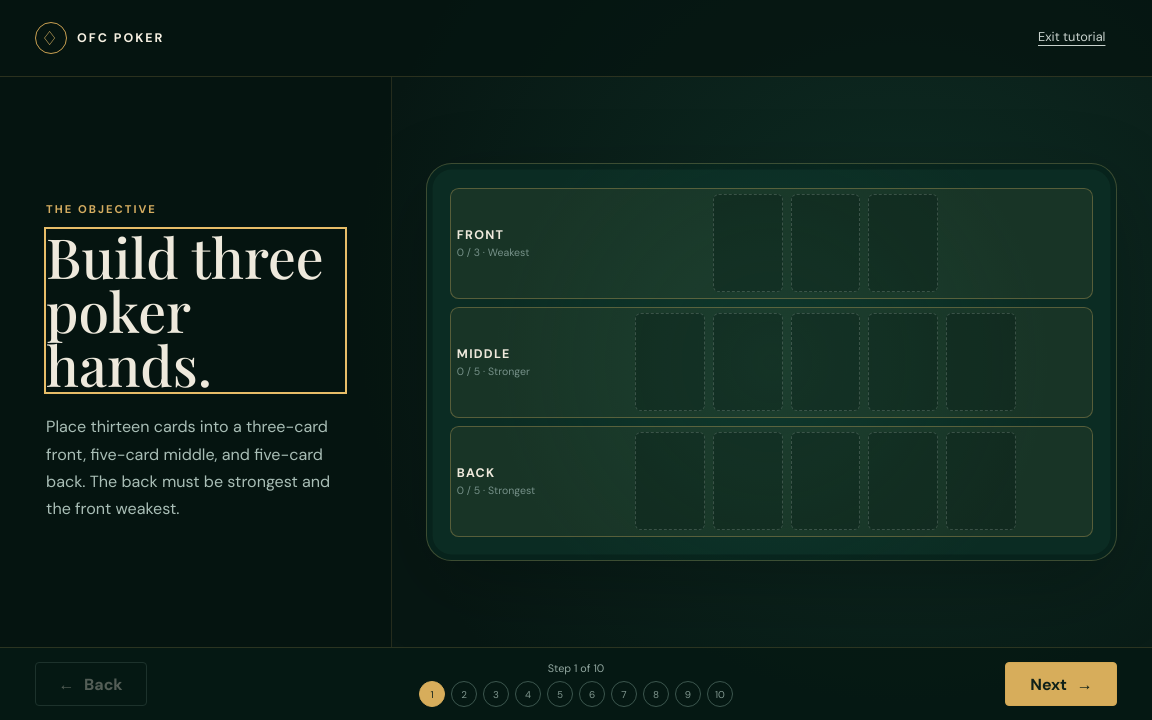
Test: guided tutorial screen › steps forward and backward through one visible instruction at a time
The image size is (1152, 720).
expect the text "Step 1 of 10" is shown: met, box [548,661,604,675]
expect the button "← Back" is disabled: met, box [34,662,146,706]
Click the button "Next →" at (1062, 684), box [1006,662,1118,706]
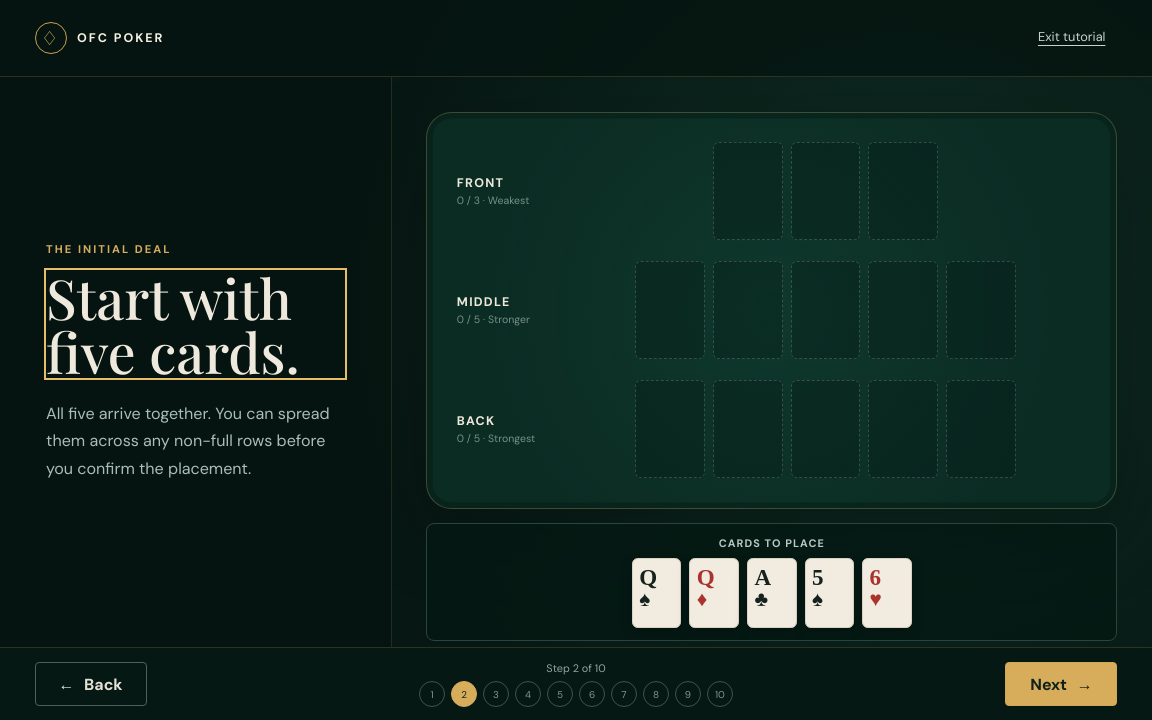
expect the text "Step 2 of 10" is shown: met, box [546,661,606,675]
expect the element named "queen of spades" is shown: met, box [632,558,681,628]
Click the button "← Back" at (90, 684), box [34,662,146,706]
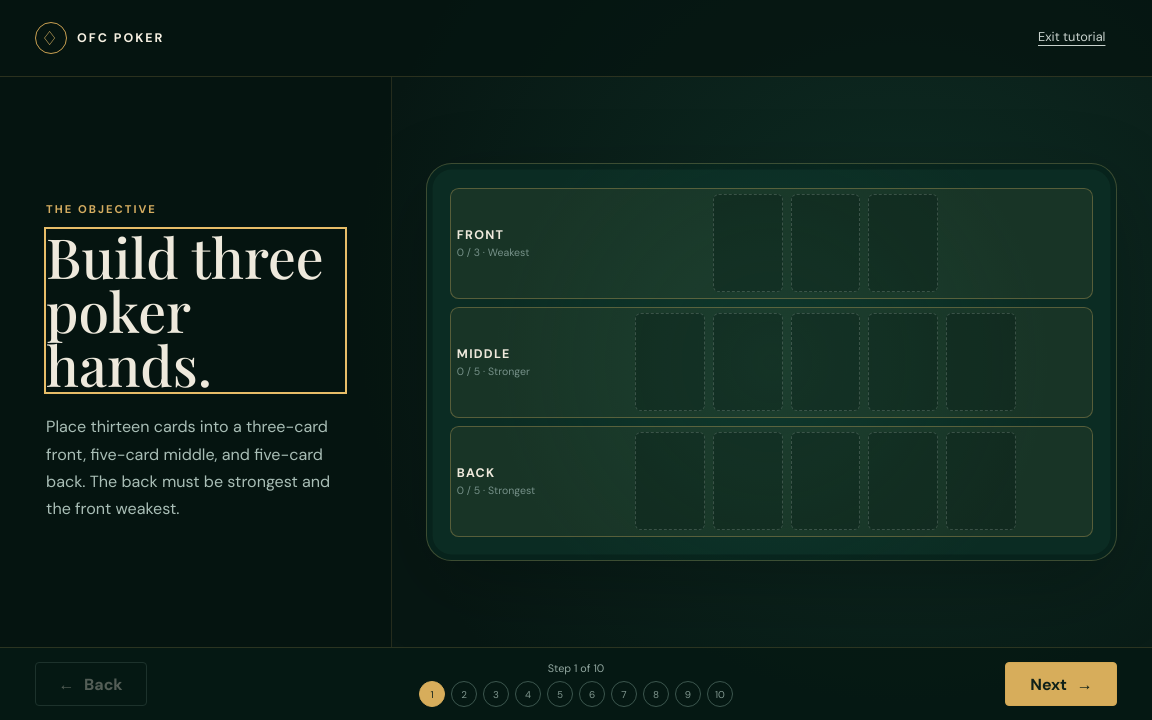
Click the button named "Go to step 4: Place eight more, one at a time." at (528, 694), box [515,681,541,707]
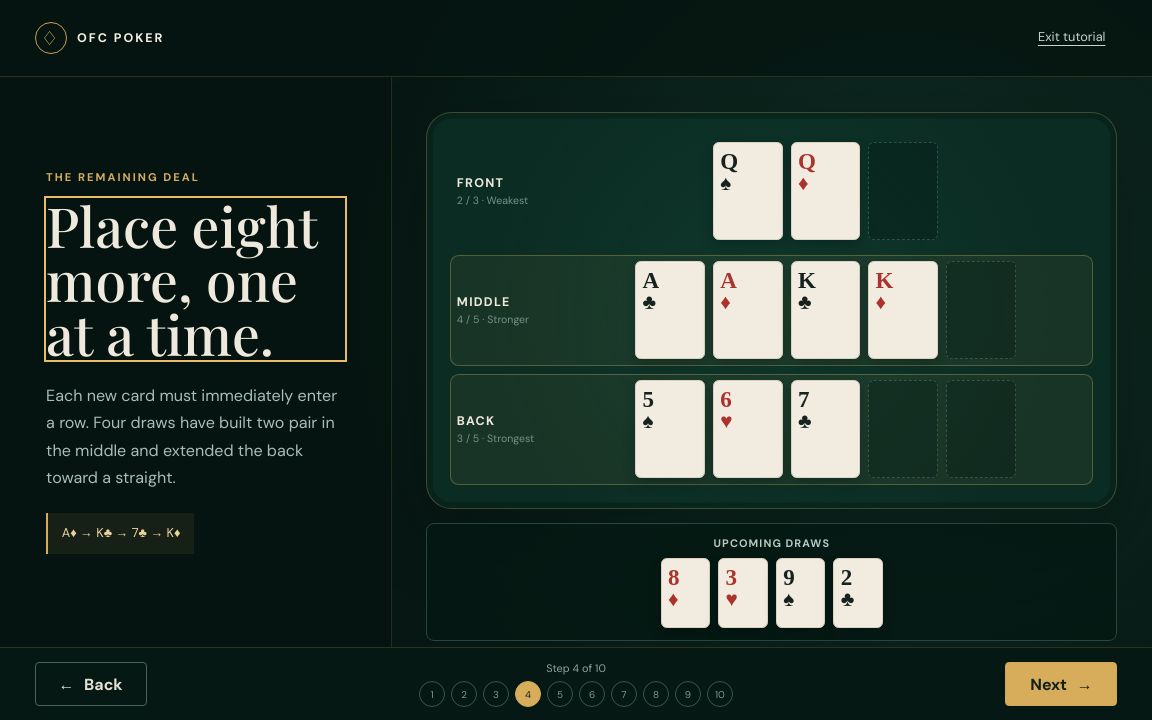
expect the text "Upcoming draws" is shown: met, box [714,536,830,550]
